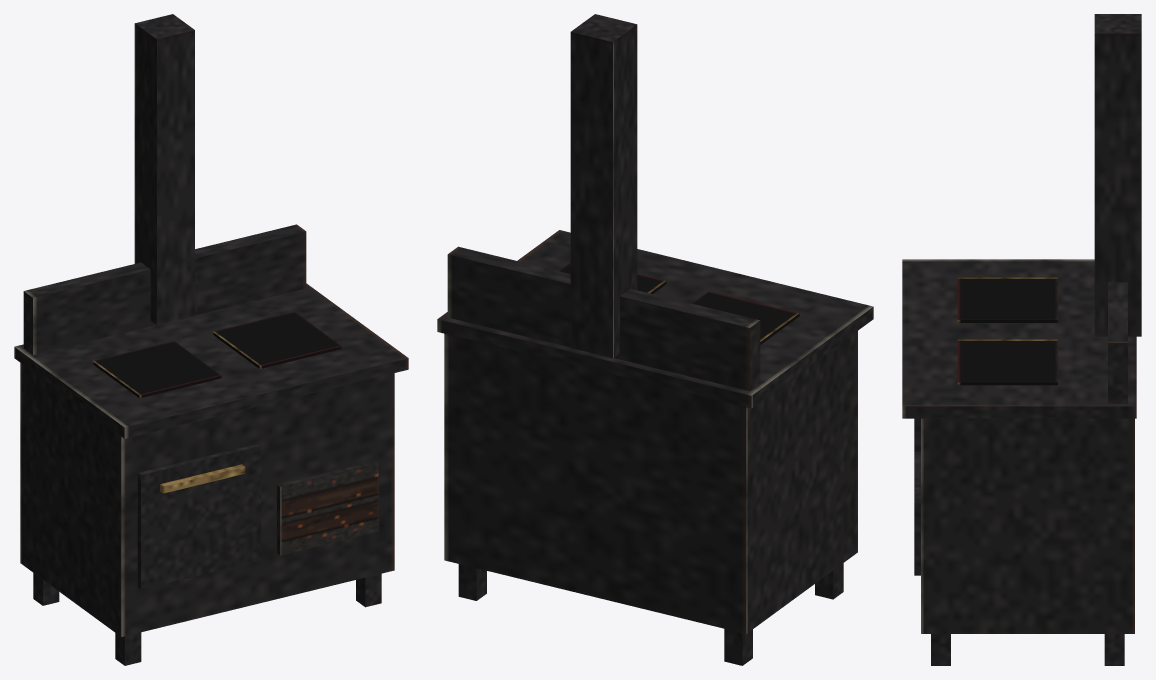
The model's file is Furn_Stove.fbx.
3 renders of one model, left to right at view 1: azimuth 30°, elevation 25°; view 2: azimuth 150°, elevation 25°; view 3: azimuth 270°, elevation 25°, orthographic. The views are drawn at different scales.
Parts seen in each view (by area): view 1: Furn_Stove; view 2: Furn_Stove; view 3: Furn_Stove.
Part boxes in pixels (bbox=[...]): Furn_Stove: bbox=[14, 14, 408, 665]; Furn_Stove: bbox=[437, 14, 873, 665]; Furn_Stove: bbox=[902, 14, 1141, 665].
Bounding box in the file's own units: 1.04 × 1.9 × 0.715.
